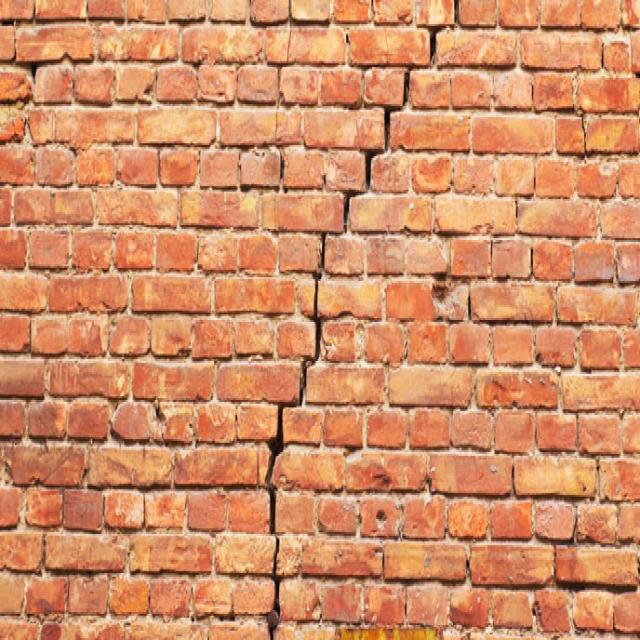Crack: (262, 0, 457, 638)
